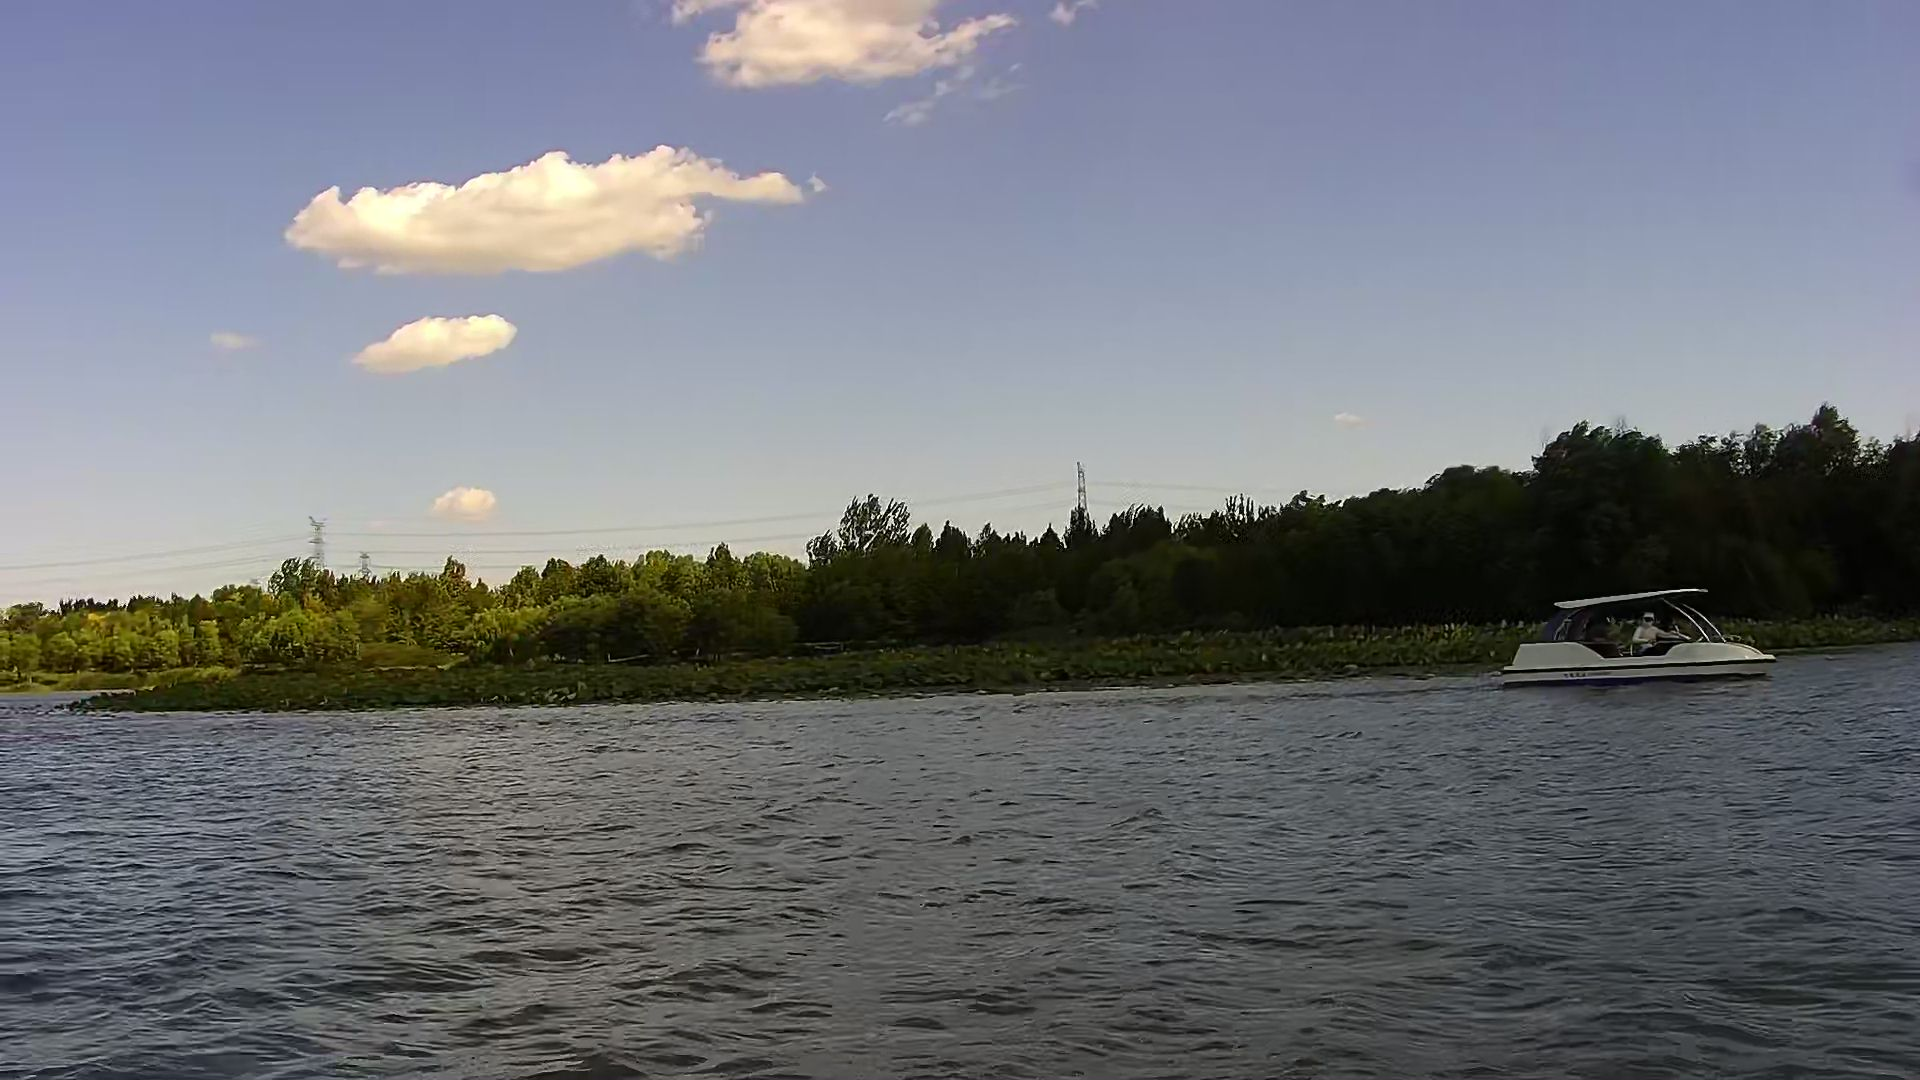boat: (1504, 580, 1781, 687)
person: (1631, 606, 1669, 659)
